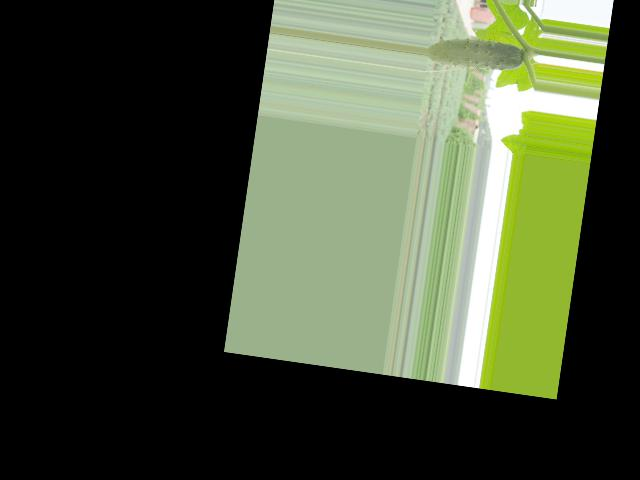cucumber: (425, 32, 524, 76)
